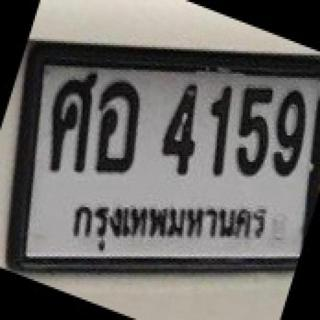A38: (48, 66, 99, 173)
A43: (96, 80, 144, 174)
N01: (206, 80, 236, 185)
N04: (157, 74, 203, 178)
N05: (235, 80, 272, 180)
N09: (270, 84, 310, 181)
P04: (68, 197, 267, 250)
